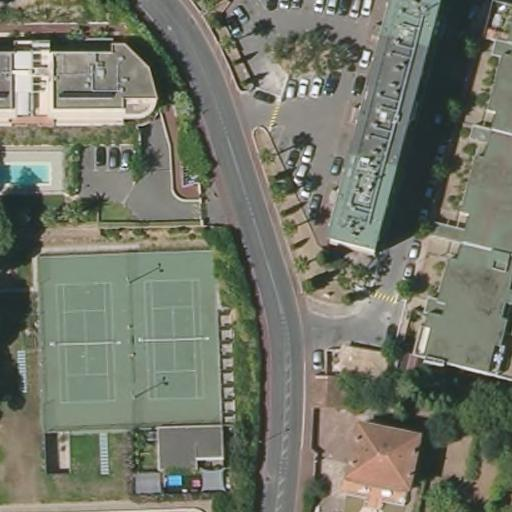pool: (0, 157, 53, 190), (161, 471, 187, 486)
